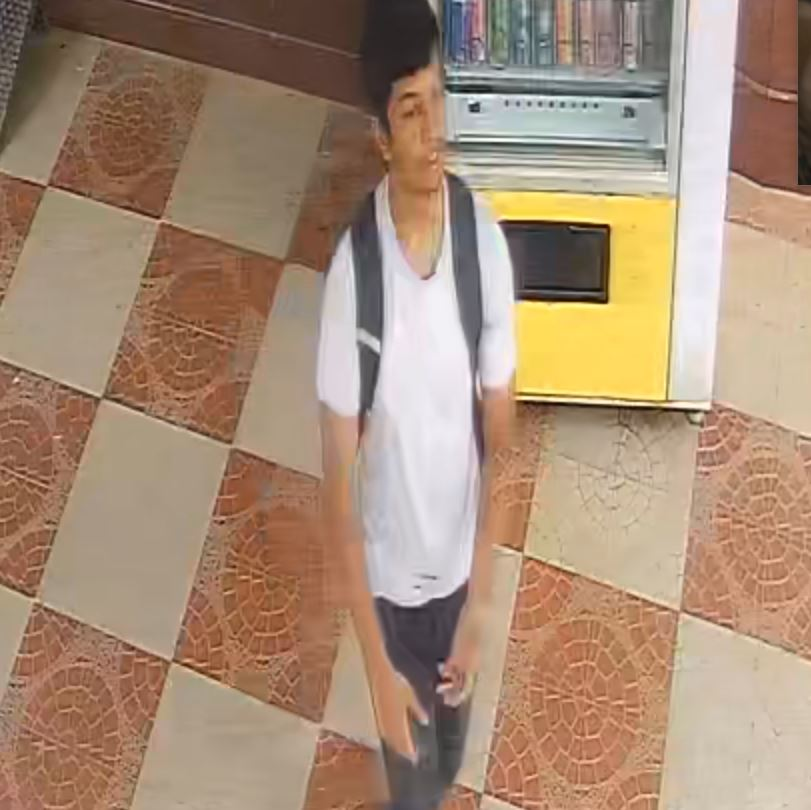intruder: (290, 2, 524, 810)
